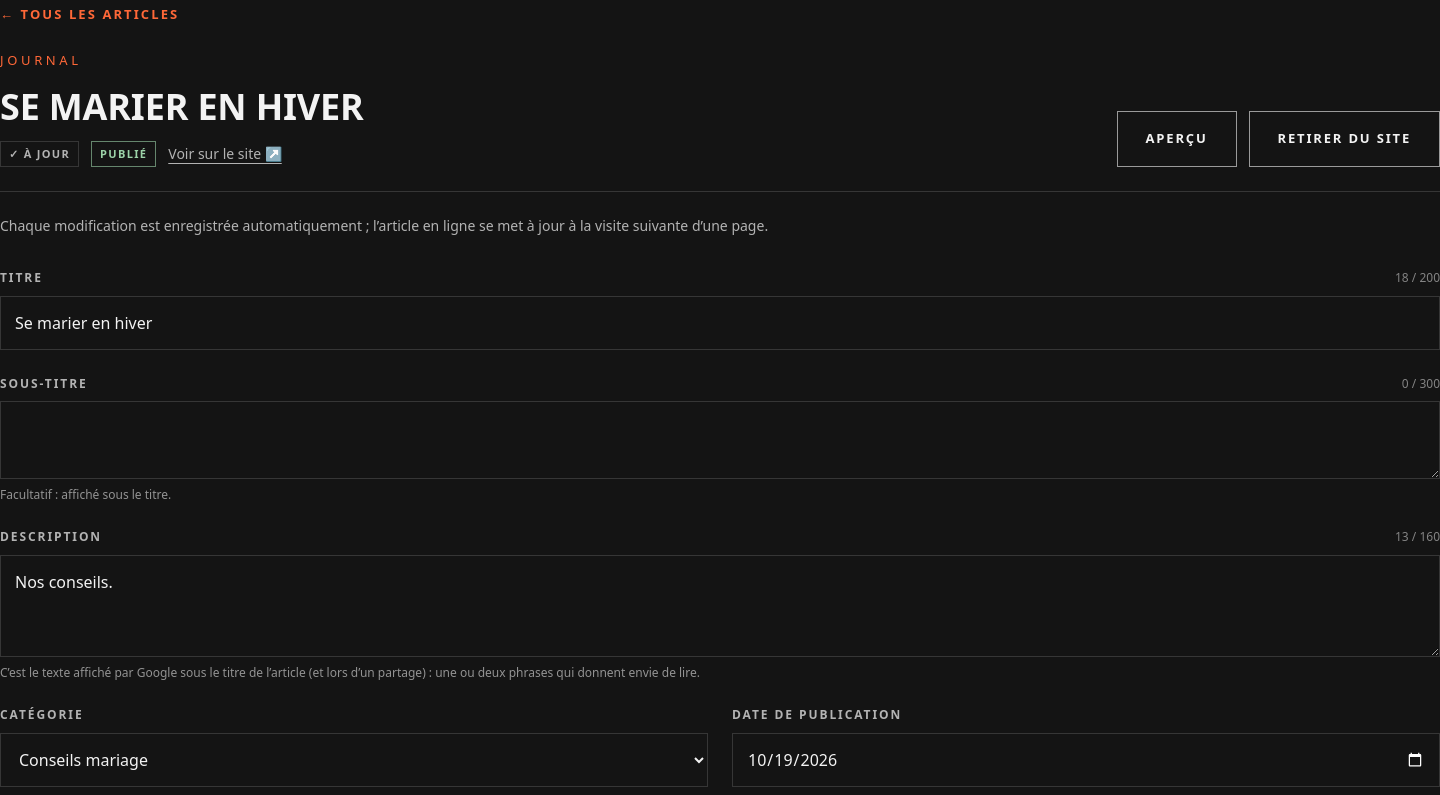
it: EditeurArticle — publication, retrait, suppression › Retirer du site : la confirmation prévient que l’adresse renverra une page introuvable
Click the button "Retirer du site". click: (1344, 139)
box: [1249,111,1439,167]
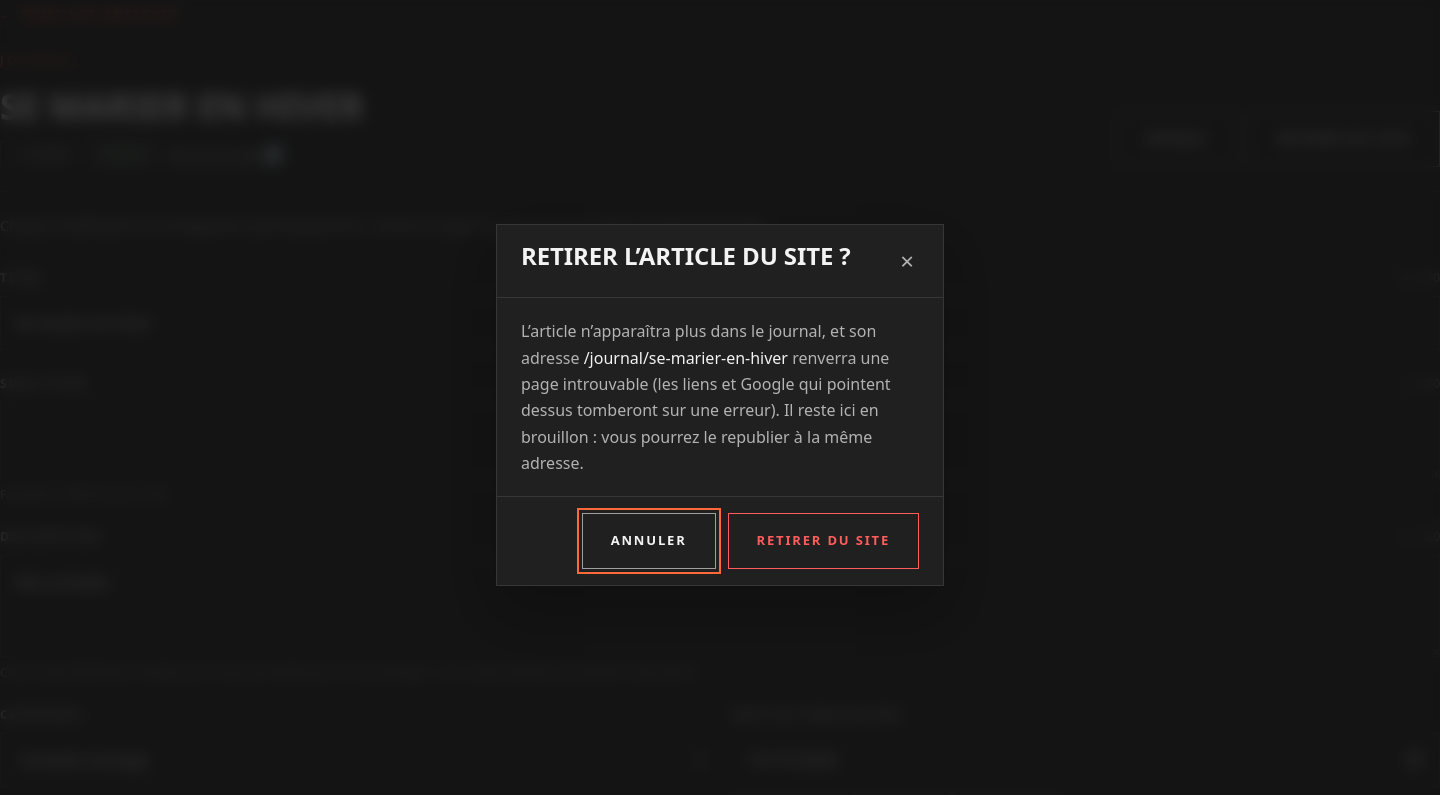
Now the dialog "Retirer l’article du site ?" shows "page introuvable", box [521,346,891,474]
Click the button "Retirer du site". click: (823, 541)
box: [728,514,919,569]
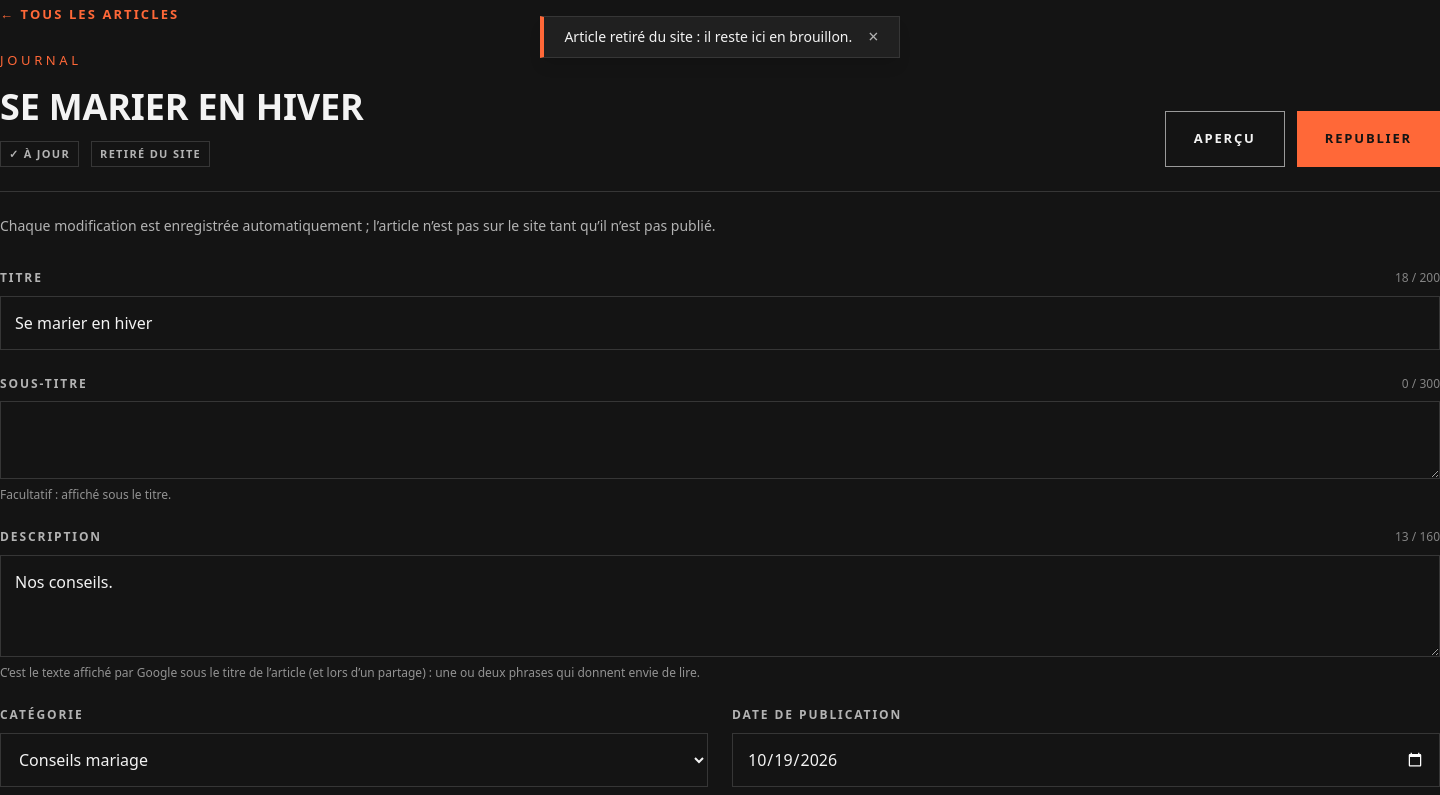
Now the button "Republier" is shown, box [1297,111,1439,167]
